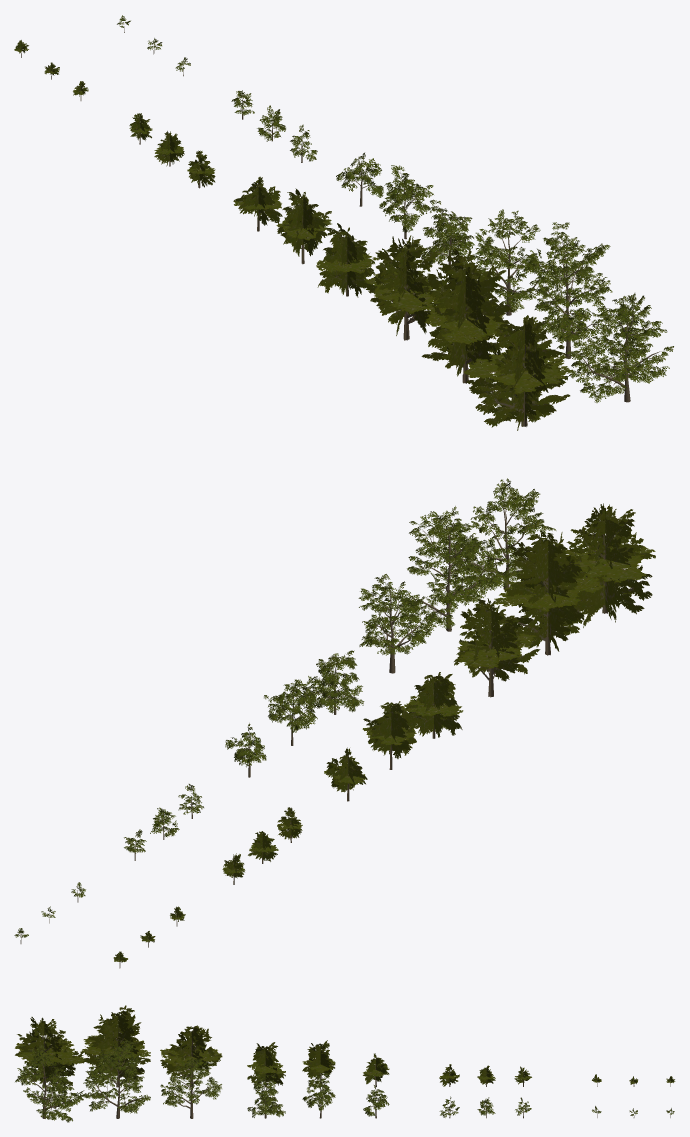
The model's file is esdoorn.glb.
The picture shows the model from 3 angles, top to bottom: view 1: azimuth 30°, elevation 25°; view 2: azimuth 150°, elevation 25°; view 3: azimuth 270°, elevation 25°; orthographic projection. The views are drawn at different scales.
Visible parts, largest first — view 1: Acer_large_1_Billboard_LOD3_Acer_large_1_Billboard_Mat_0, Acer_large_2_Billboard_LOD3_Acer_large_2_Billboard_Mat_0, Acer_large_2_LOD2_Cluster_Mat_0, Acer_large_1_LOD2_Cluster_Mat_0, Acer_large_3_Billboard_LOD3_Acer_large_3_Billboard_Mat_0, Acer_large_3_LOD2_Cluster_Mat_0, Acer_medium_1_Billboard_LOD3_Acer_medium_1_Billboard_Mat_0, Acer_medium_2_Billboard_LOD3_Acer_medium_2_Billboard_Mat_0, Acer_medium_1_LOD2_Cluster_Mat_0, Acer_medium_2_LOD2_Cluster_Mat_0, Acer_medium_3_Billboard_LOD3_Acer_medium_3_Billboard_Mat_0, Acer_medium_3_LOD2_Cluster_Mat_0 (+3 smaller); view 2: Acer_large_2_Billboard_LOD3_Acer_large_2_Billboard_Mat_0, Acer_large_1_Billboard_LOD3_Acer_large_1_Billboard_Mat_0, Acer_large_2_LOD2_Cluster_Mat_0, Acer_large_3_Billboard_LOD3_Acer_large_3_Billboard_Mat_0, Acer_large_1_LOD2_Cluster_Mat_0, Acer_large_3_LOD2_Cluster_Mat_0, Acer_medium_1_Billboard_LOD3_Acer_medium_1_Billboard_Mat_0, Acer_medium_1_LOD2_Cluster_Mat_0, Acer_medium_2_Billboard_LOD3_Acer_medium_2_Billboard_Mat_0, Acer_medium_2_LOD2_Cluster_Mat_0, Acer_medium_3_Billboard_LOD3_Acer_medium_3_Billboard_Mat_0, Acer_medium_3_LOD2_Cluster_Mat_0; view 3: Acer_large_2_Billboard_LOD3_Acer_large_2_Billboard_Mat_0, Acer_large_2_LOD2_Cluster_Mat_0, Acer_large_1_Billboard_LOD3_Acer_large_1_Billboard_Mat_0, Acer_large_1_LOD2_Cluster_Mat_0, Acer_large_3_Billboard_LOD3_Acer_large_3_Billboard_Mat_0, Acer_large_3_LOD2_Cluster_Mat_0, Acer_medium_1_Billboard_LOD3_Acer_medium_1_Billboard_Mat_0, Acer_medium_1_LOD2_Cluster_Mat_0, Acer_medium_2_Billboard_LOD3_Acer_medium_2_Billboard_Mat_0, Acer_medium_2_LOD2_Cluster_Mat_0, Acer_medium_3_Billboard_LOD3_Acer_medium_3_Billboard_Mat_0, Acer_medium_3_LOD2_Cluster_Mat_0 (+5 smaller).
Boxes of the visible parts, bbox=[...] form: Acer_large_1_Billboard_LOD3_Acer_large_1_Billboard_Mat_0: bbox=[463, 315, 572, 430]; Acer_large_2_Billboard_LOD3_Acer_large_2_Billboard_Mat_0: bbox=[421, 248, 513, 383]; Acer_large_2_LOD2_Cluster_Mat_0: bbox=[527, 222, 616, 354]; Acer_large_1_LOD2_Cluster_Mat_0: bbox=[566, 293, 673, 402]; Acer_large_3_Billboard_LOD3_Acer_large_3_Billboard_Mat_0: bbox=[361, 235, 446, 340]; Acer_large_3_LOD2_Cluster_Mat_0: bbox=[466, 209, 552, 312]; Acer_medium_1_Billboard_LOD3_Acer_medium_1_Billboard_Mat_0: bbox=[316, 223, 378, 297]; Acer_medium_2_Billboard_LOD3_Acer_medium_2_Billboard_Mat_0: bbox=[276, 188, 331, 264]; Acer_medium_1_LOD2_Cluster_Mat_0: bbox=[419, 199, 478, 268]; Acer_medium_2_LOD2_Cluster_Mat_0: bbox=[379, 165, 433, 232]; Acer_medium_3_Billboard_LOD3_Acer_medium_3_Billboard_Mat_0: bbox=[233, 176, 282, 231]; Acer_medium_3_LOD2_Cluster_Mat_0: bbox=[336, 152, 383, 197]; Acer_large_2_Billboard_LOD3_Acer_large_2_Billboard_Mat_0: bbox=[494, 531, 604, 655]; Acer_large_1_Billboard_LOD3_Acer_large_1_Billboard_Mat_0: bbox=[565, 503, 655, 627]; Acer_large_2_LOD2_Cluster_Mat_0: bbox=[397, 506, 506, 628]; Acer_large_3_Billboard_LOD3_Acer_large_3_Billboard_Mat_0: bbox=[454, 598, 540, 697]; Acer_large_1_LOD2_Cluster_Mat_0: bbox=[447, 478, 556, 598]; Acer_large_3_LOD2_Cluster_Mat_0: bbox=[358, 574, 437, 655]; Acer_medium_1_Billboard_LOD3_Acer_medium_1_Billboard_Mat_0: bbox=[401, 672, 463, 738]; Acer_medium_1_LOD2_Cluster_Mat_0: bbox=[299, 650, 364, 713]; Acer_medium_2_Billboard_LOD3_Acer_medium_2_Billboard_Mat_0: bbox=[362, 701, 416, 769]; Acer_medium_2_LOD2_Cluster_Mat_0: bbox=[264, 679, 317, 733]; Acer_medium_3_Billboard_LOD3_Acer_medium_3_Billboard_Mat_0: bbox=[324, 747, 367, 801]; Acer_medium_3_LOD2_Cluster_Mat_0: bbox=[225, 723, 266, 767]; Acer_large_2_Billboard_LOD3_Acer_large_2_Billboard_Mat_0: bbox=[82, 1005, 150, 1087]; Acer_large_2_LOD2_Cluster_Mat_0: bbox=[82, 1037, 150, 1113]; Acer_large_1_Billboard_LOD3_Acer_large_1_Billboard_Mat_0: bbox=[15, 1017, 85, 1093]; Acer_large_1_LOD2_Cluster_Mat_0: bbox=[15, 1044, 84, 1122]; Acer_large_3_Billboard_LOD3_Acer_large_3_Billboard_Mat_0: bbox=[160, 1025, 222, 1086]; Acer_large_3_LOD2_Cluster_Mat_0: bbox=[160, 1058, 221, 1107]; Acer_medium_1_Billboard_LOD3_Acer_medium_1_Billboard_Mat_0: bbox=[247, 1042, 285, 1087]; Acer_medium_1_LOD2_Cluster_Mat_0: bbox=[247, 1074, 285, 1117]; Acer_medium_2_Billboard_LOD3_Acer_medium_2_Billboard_Mat_0: bbox=[302, 1040, 335, 1085]; Acer_medium_2_LOD2_Cluster_Mat_0: bbox=[302, 1072, 335, 1110]; Acer_medium_3_Billboard_LOD3_Acer_medium_3_Billboard_Mat_0: bbox=[363, 1053, 389, 1086]; Acer_medium_3_LOD2_Cluster_Mat_0: bbox=[363, 1085, 389, 1116].
Bounding box in the file's own units: 38.69 × 23.86 × 180.
Materials: 14 (14 with a texture image).
